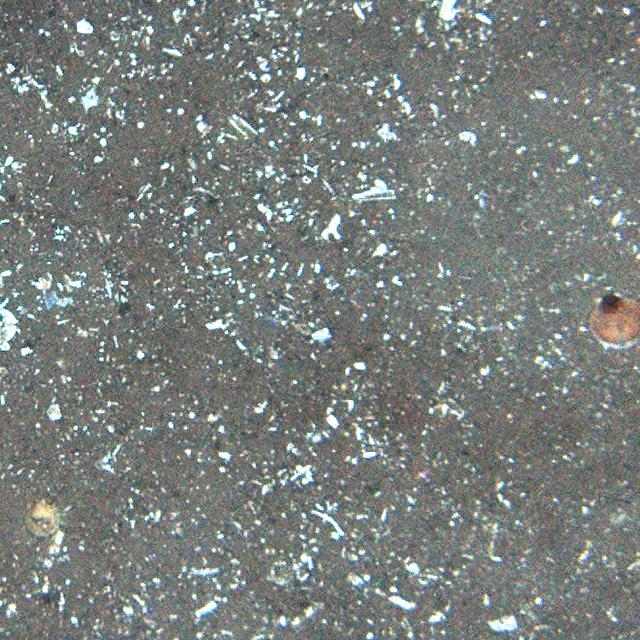scallop: (590, 285, 640, 354)
